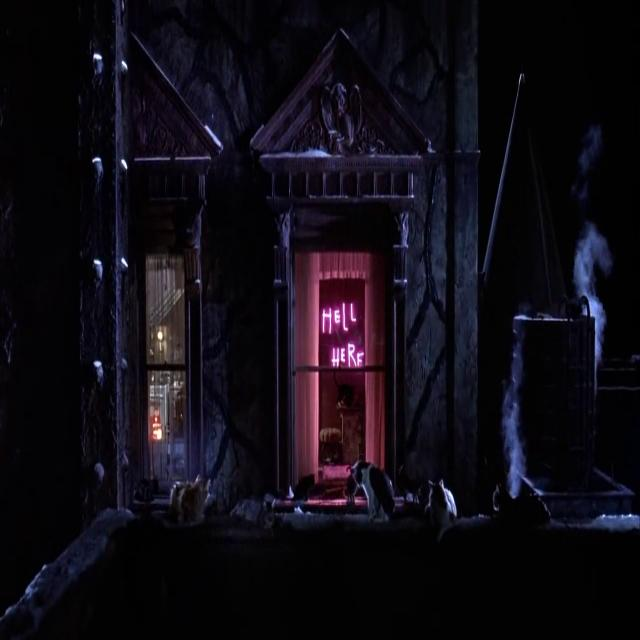Cat: (492, 444, 552, 544), (348, 451, 397, 528), (169, 466, 219, 535), (423, 451, 457, 552), (233, 488, 282, 533), (133, 466, 164, 510), (333, 374, 363, 416)
